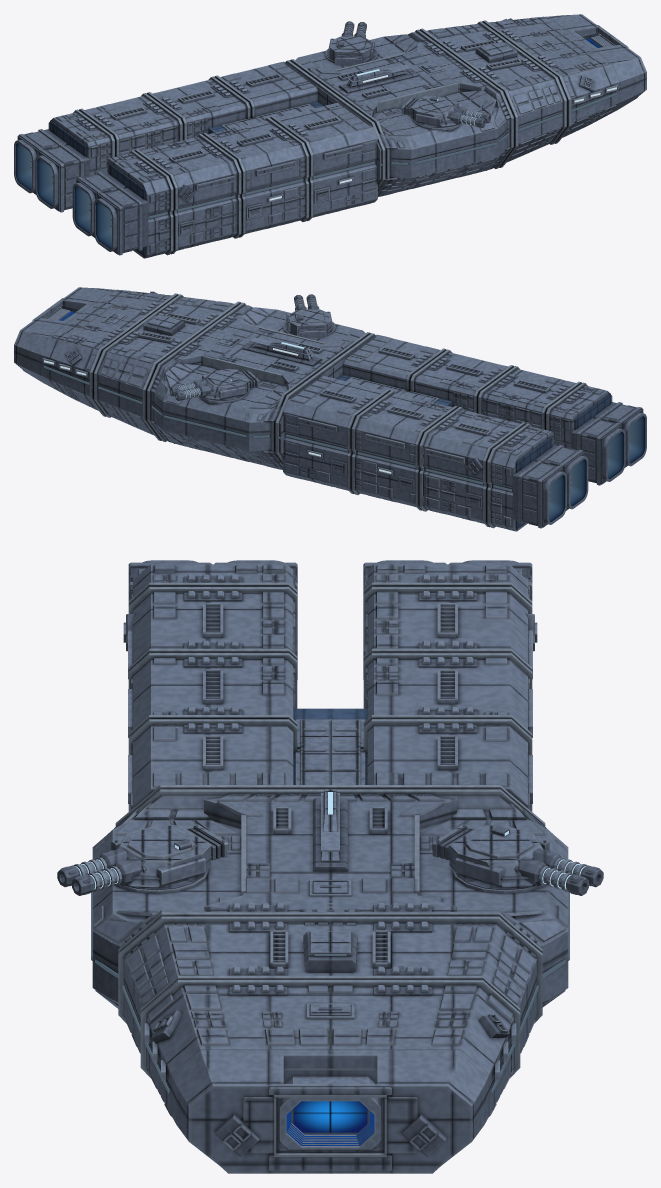
3 views of the same model, one above another, from view 1: azimuth 30°, elevation 25°; view 2: azimuth 150°, elevation 25°; view 3: azimuth 270°, elevation 25° (orthographic). The views are drawn at different scales.
Parts seen in each view (by area): view 1: H10_23, turret_3_turn, turret_2_turn; view 2: H10_23, turret_2_turn, turret_3_turn; view 3: H10_23, turret_2_turn, turret_3_turn.
Part boxes in pixels (x1,y1,x2,y2): H10_23: (14, 14, 646, 258); turret_3_turn: (401, 96, 491, 127); turret_2_turn: (328, 21, 374, 65); H10_23: (14, 287, 646, 531); turret_2_turn: (169, 369, 259, 400); turret_3_turn: (286, 294, 332, 338); H10_23: (91, 560, 569, 1173); turret_2_turn: (432, 824, 603, 895); turret_3_turn: (57, 824, 228, 895).
Bounding box in the file's own units: 1 × 0.1751 × 0.4278.
Materials: 19 (4 with a texture image).
